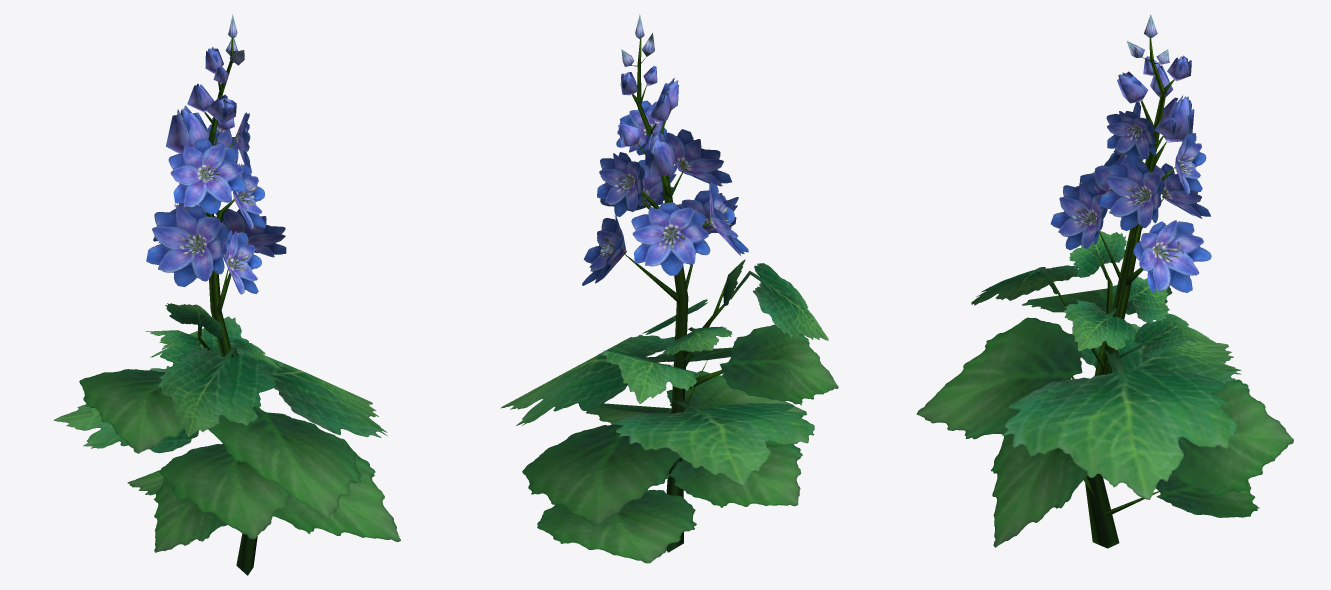
Rendered from wm_灌木大花翠雀01.fbx.
3 renders of one model, left to right at view 1: azimuth 30°, elevation 25°; view 2: azimuth 150°, elevation 25°; view 3: azimuth 270°, elevation 25°, orthographic. The views are drawn at different scales.
Visible parts, largest first — view 1: wm_灌木大花翠雀01; view 2: wm_灌木大花翠雀01; view 3: wm_灌木大花翠雀01.
Boxes of the visible parts, x1,y1,x2,y2 form: wm_灌木大花翠雀01: [54, 14, 400, 575]; wm_灌木大花翠雀01: [500, 14, 838, 563]; wm_灌木大花翠雀01: [916, 14, 1293, 548].
Bounding box in the file's own units: 198 × 294 × 214.
